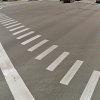Crosswalk: (2, 13, 95, 93)
